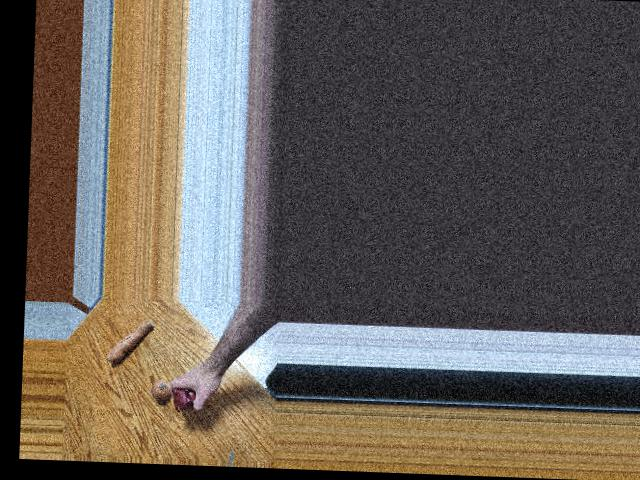onion: (149, 378, 175, 402)
